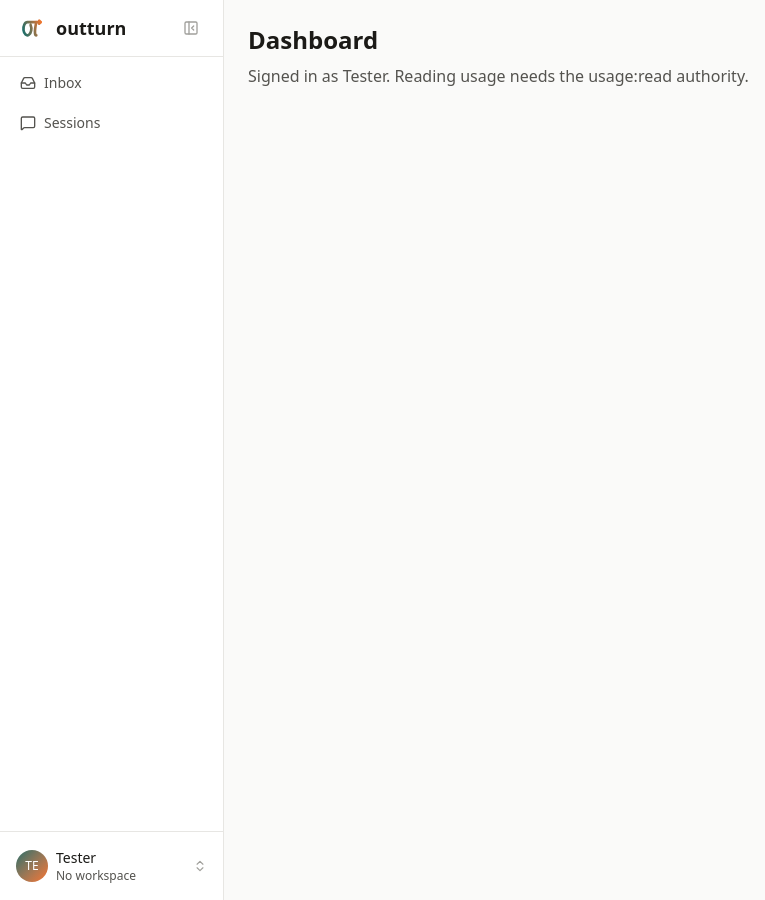
Test: nav collapse control › toggles both ways from the mark alone
Click the button named "outturn -- collapse": (32, 28) 16,12 -> 48,44
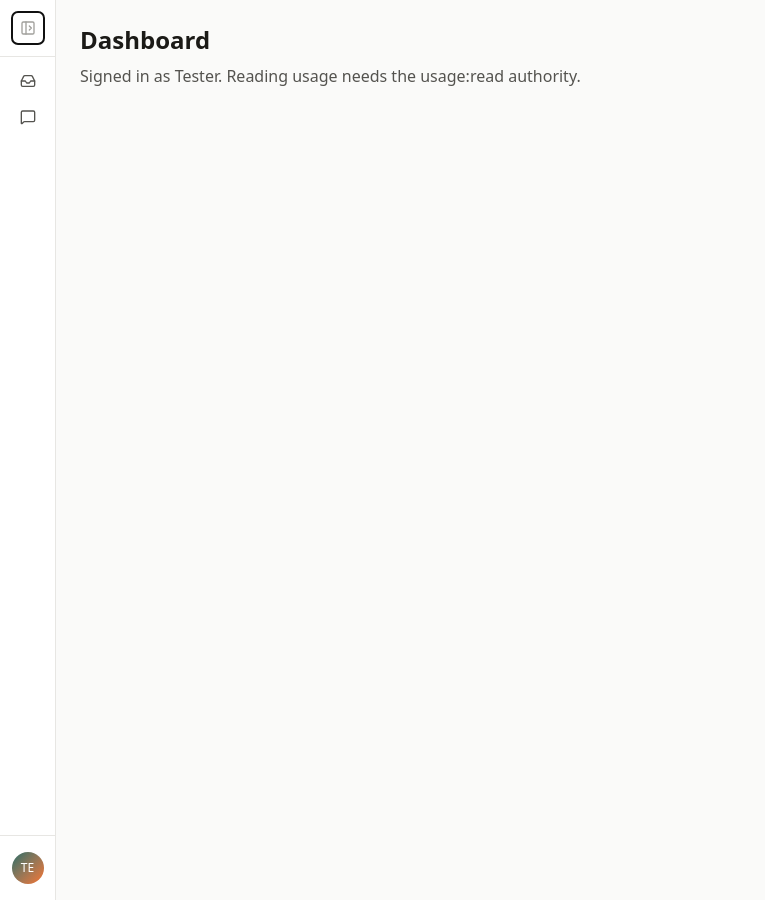
Expected: the button named "outturn -- expand" is collapsed
Click the button named "outturn -- expand": (28, 28) 12,12 -> 44,44
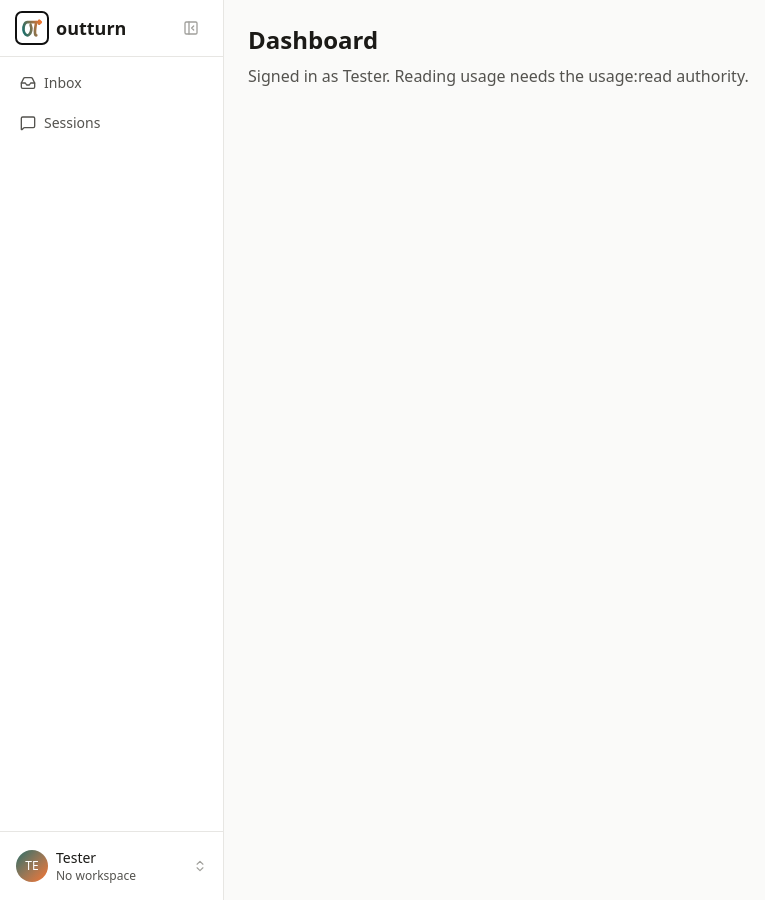
Expected: the button named "outturn -- collapse" is expanded, 16,12 -> 48,44
